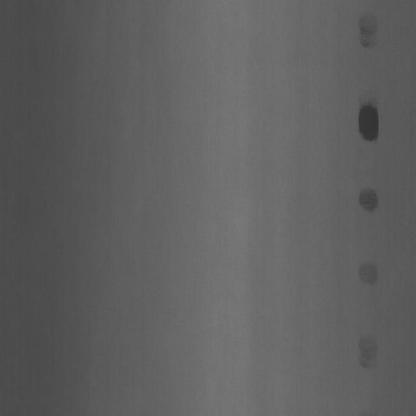oil_spot: (355, 104, 383, 145), (357, 5, 379, 53), (359, 262, 383, 302), (359, 187, 381, 213), (360, 340, 378, 370)
